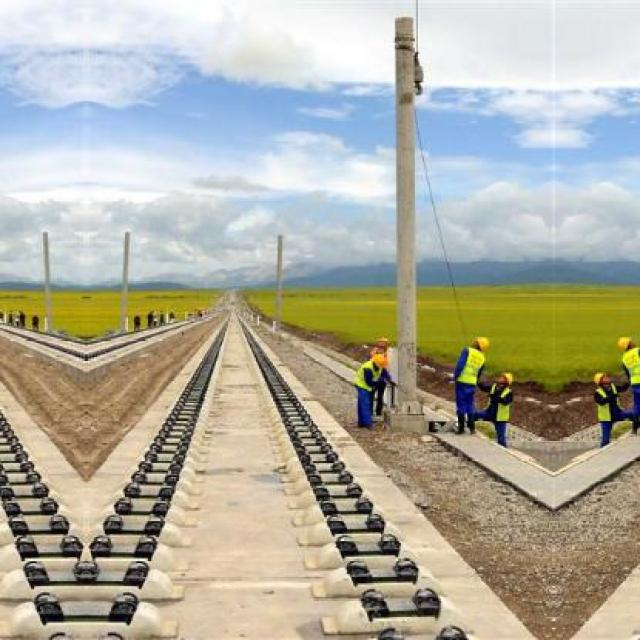helmet: (611, 331, 637, 355), (466, 332, 494, 354), (589, 366, 611, 388), (494, 366, 515, 388), (368, 350, 389, 370), (373, 334, 390, 348)
